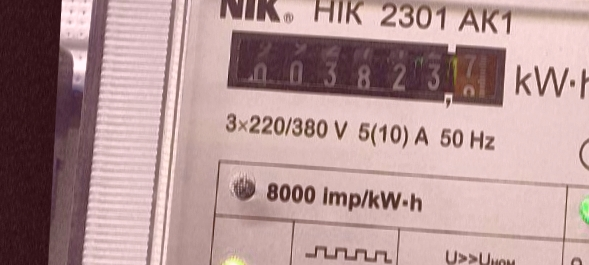0: (281, 56, 302, 84), (247, 59, 266, 82)
2: (386, 60, 406, 93)
3: (317, 57, 336, 87), (421, 61, 440, 91)
7: (458, 53, 476, 81)
8: (351, 61, 369, 90)
9: (250, 38, 269, 58)
screen: (216, 25, 507, 111)
